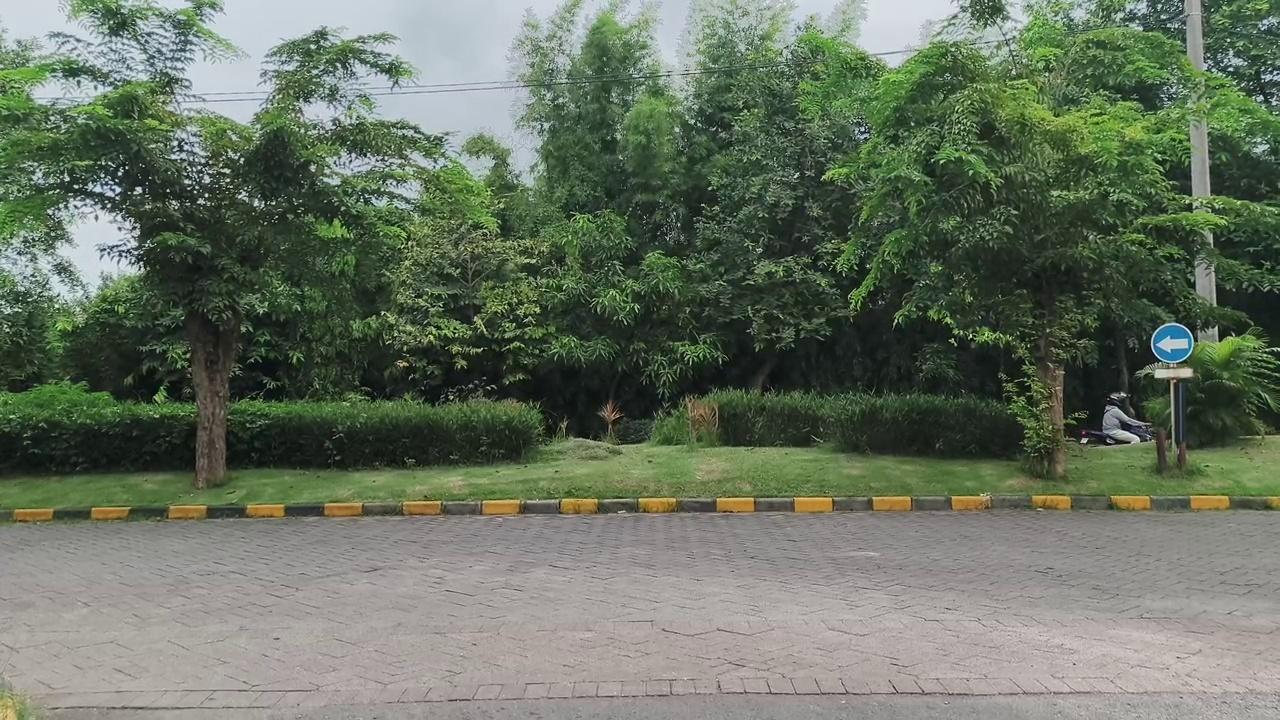Helmet: (1102, 392, 1147, 443)
Motor: (1079, 429, 1129, 446)
